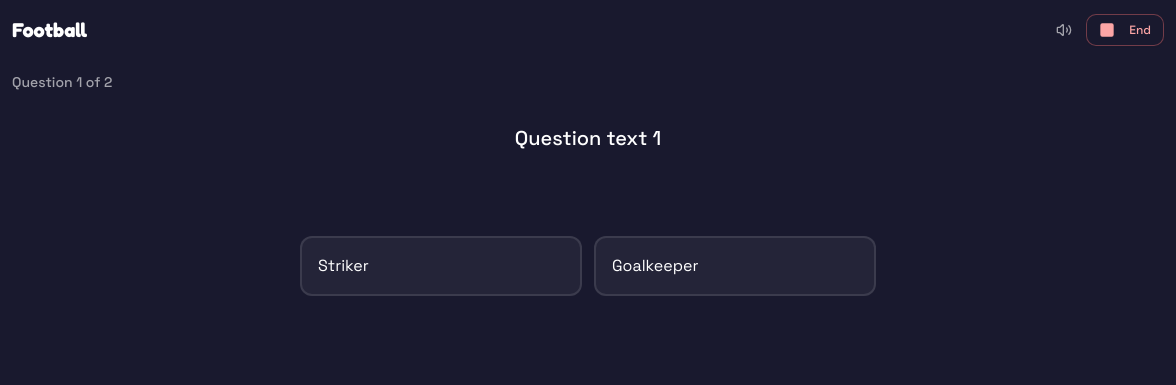
Test: QuizStage › waits for Next when there is no timer, with no countdown
Check: the text "Question text 1" is shown, box [515,124,661,152]
Check: the button "Next" is not shown
Click the button "Goalkeeper" at (655, 266), box [594,236,876,296]
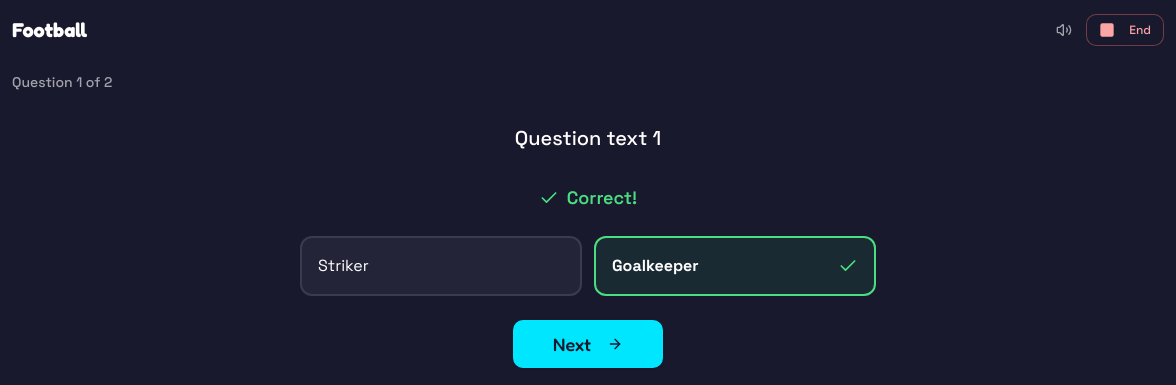
Check: the text "Question text 2" is not shown
Check: the text "Correct!" is shown, box [539,186,637,209]
Click the button "Next" at (588, 344), box [513,320,663,368]
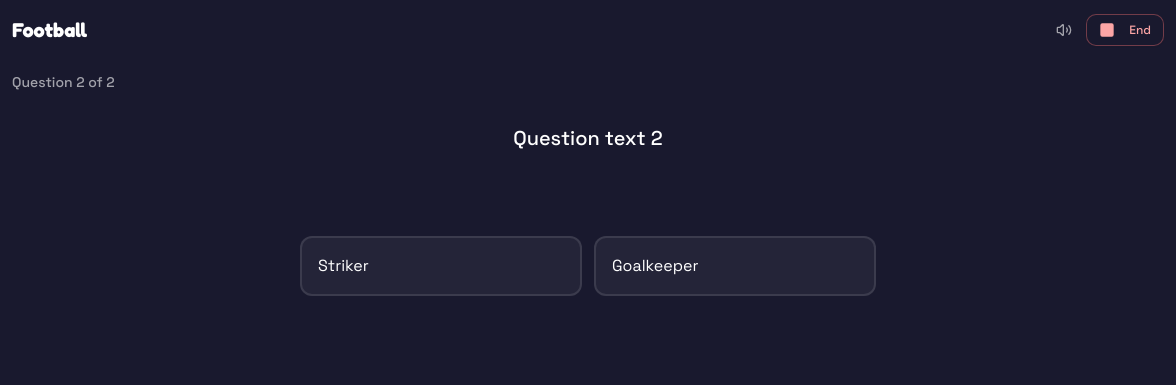
Check: the text "Question text 2" is shown, box [513,124,663,152]
